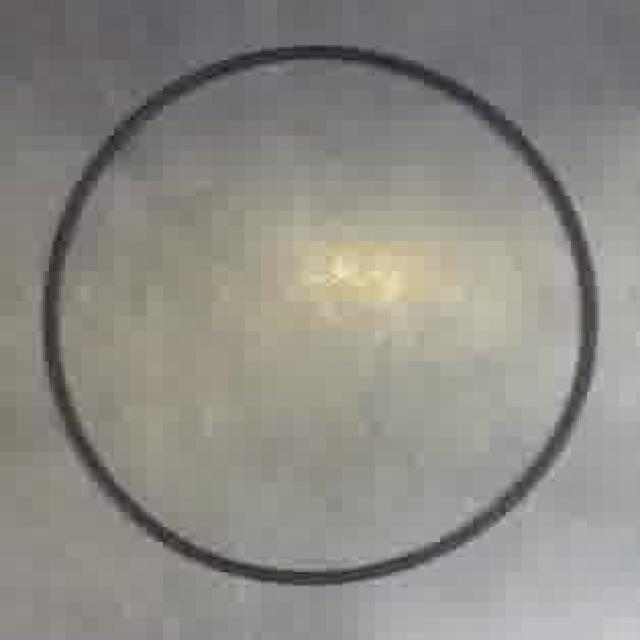Circle: (39, 42, 602, 586)
